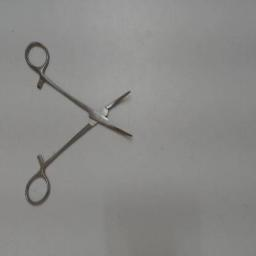Crile Artery Forceps: (20, 36, 142, 208)
